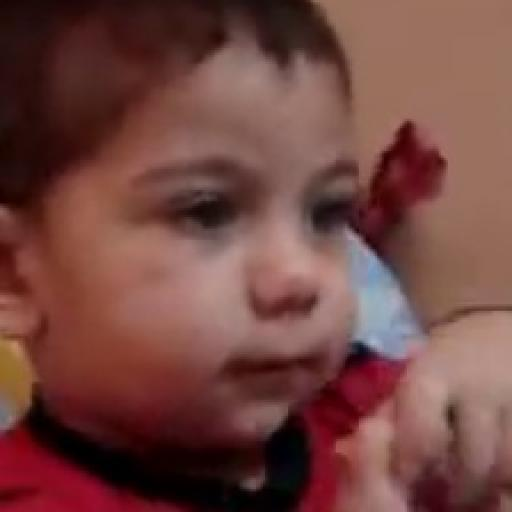Autism: (46, 14, 404, 484)
